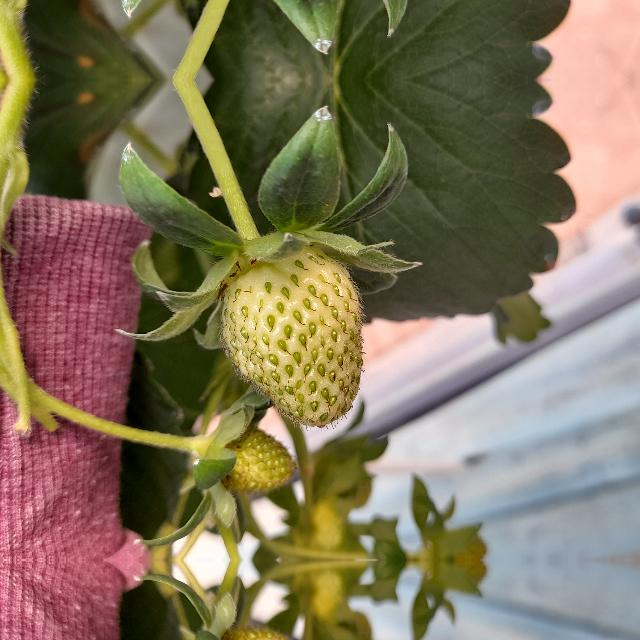Health_25: (220, 246, 364, 428), (216, 432, 302, 496), (216, 624, 301, 640)
